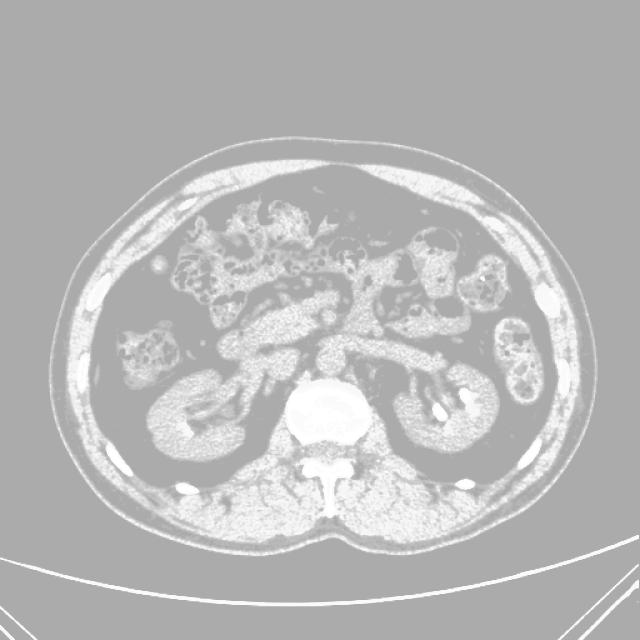STONE: (129, 307, 495, 475)
